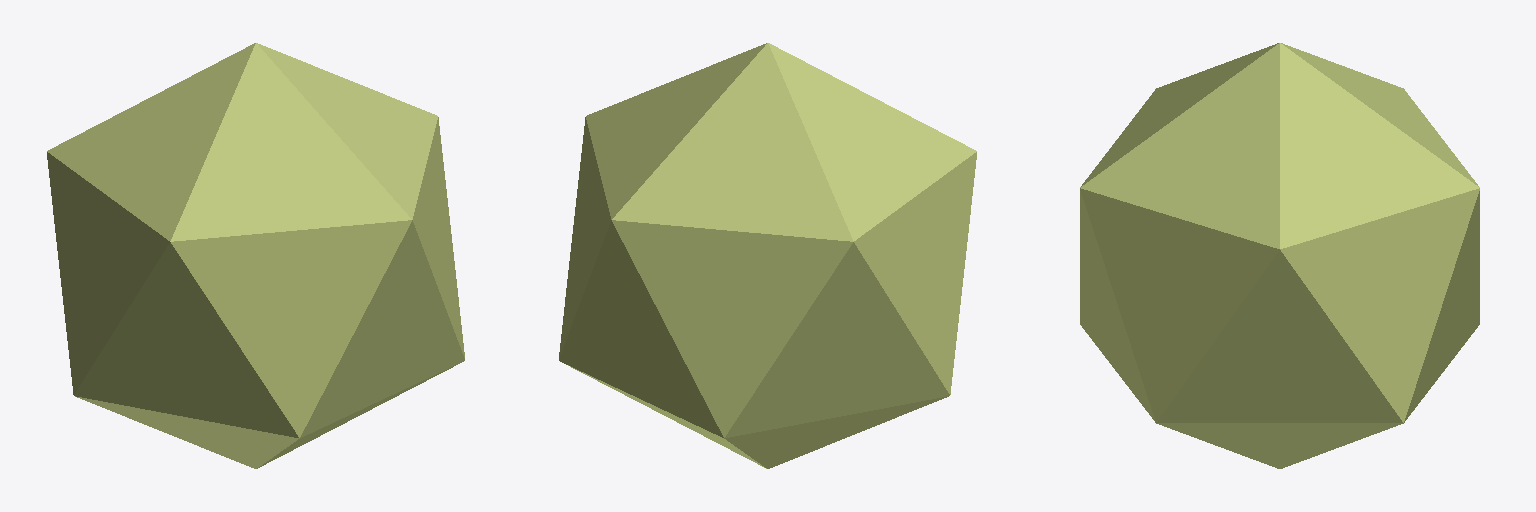
Rendered from LightMesh.obj.
3 renders of one model, left to right at view 1: azimuth 30°, elevation 25°; view 2: azimuth 150°, elevation 25°; view 3: azimuth 270°, elevation 25°, orthographic.
Parts seen in each view (by area): view 1: Icosphere; view 2: Icosphere; view 3: Icosphere.
Boxes of the visible parts, box(x1,y1,x2,y2) form: Icosphere: box(47, 43, 464, 468); Icosphere: box(559, 43, 976, 468); Icosphere: box(1080, 43, 1479, 468).
Size of the model in its own units: 0.9462 by 1.06 by 0.8999.